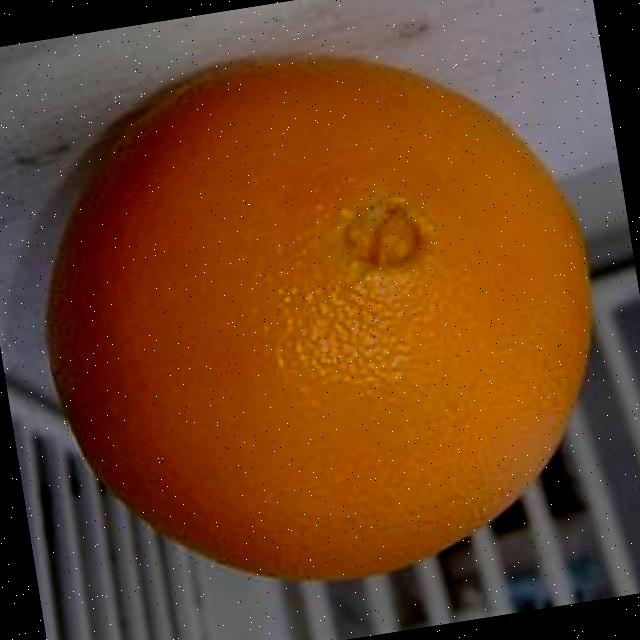orange: (9, 14, 636, 624)
